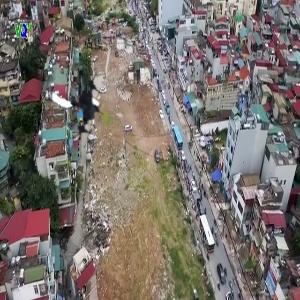drone: (46, 69, 119, 142)
